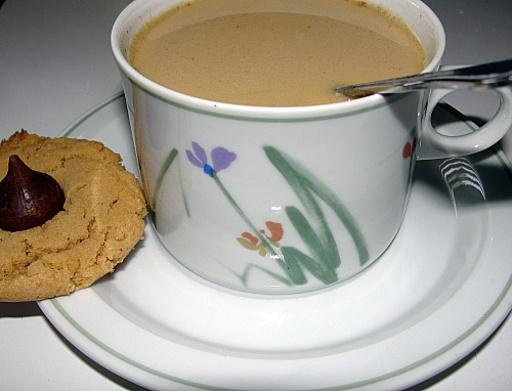background: (102, 0, 341, 65), (0, 78, 118, 185)
